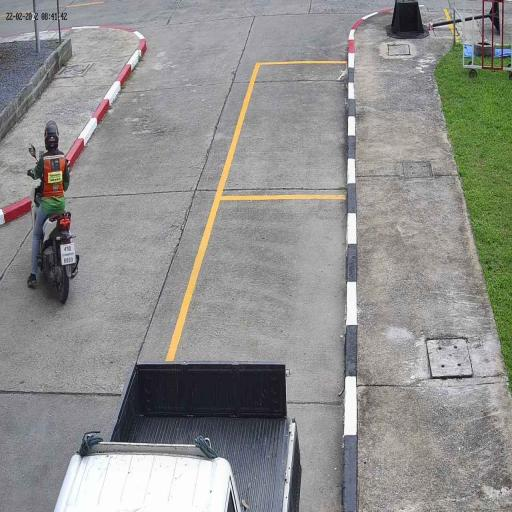car: (53, 362, 303, 511)
motorcycle: (30, 209, 81, 307)
